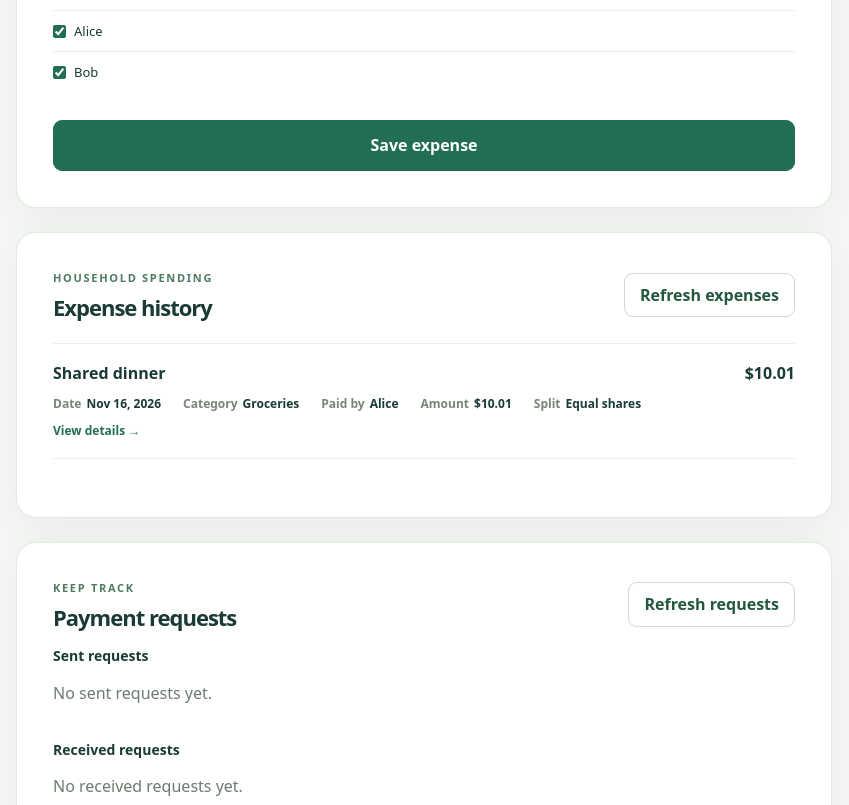
it: expense history and details › lists household expenses and displays stored allocations in detail
(page scrolled)
Expected: the text "Nov 16, 2026" is shown, [86,395,161,414]
Expected: the text "Groceries" is shown, [243,395,299,414]
What coordinates should you click on to do the following:
click the button with aria-label "View Shared dinner"
I would click on:
 (424, 401)
Its box is [53,344,795,458].
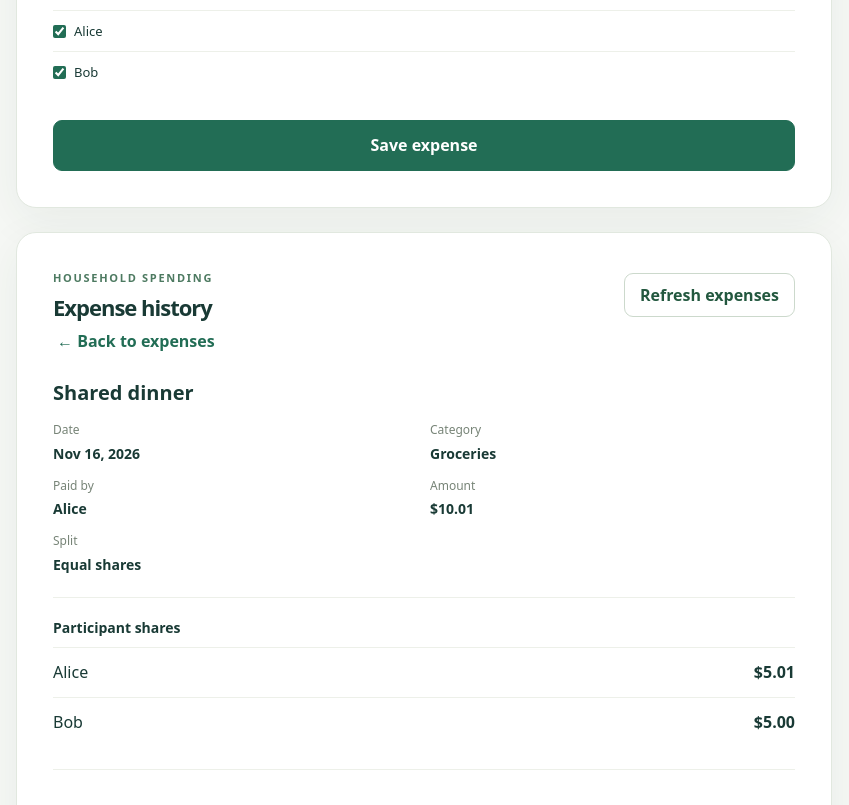
Result: the heading "Participant shares" is shown at [53,618,181,637]
Result: the text "Bob" below "Participant shares" is shown at [53,711,83,733]
Result: the text "$5.01" is shown at [754,660,795,685]
